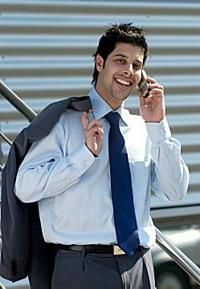person: (14, 22, 190, 288)
